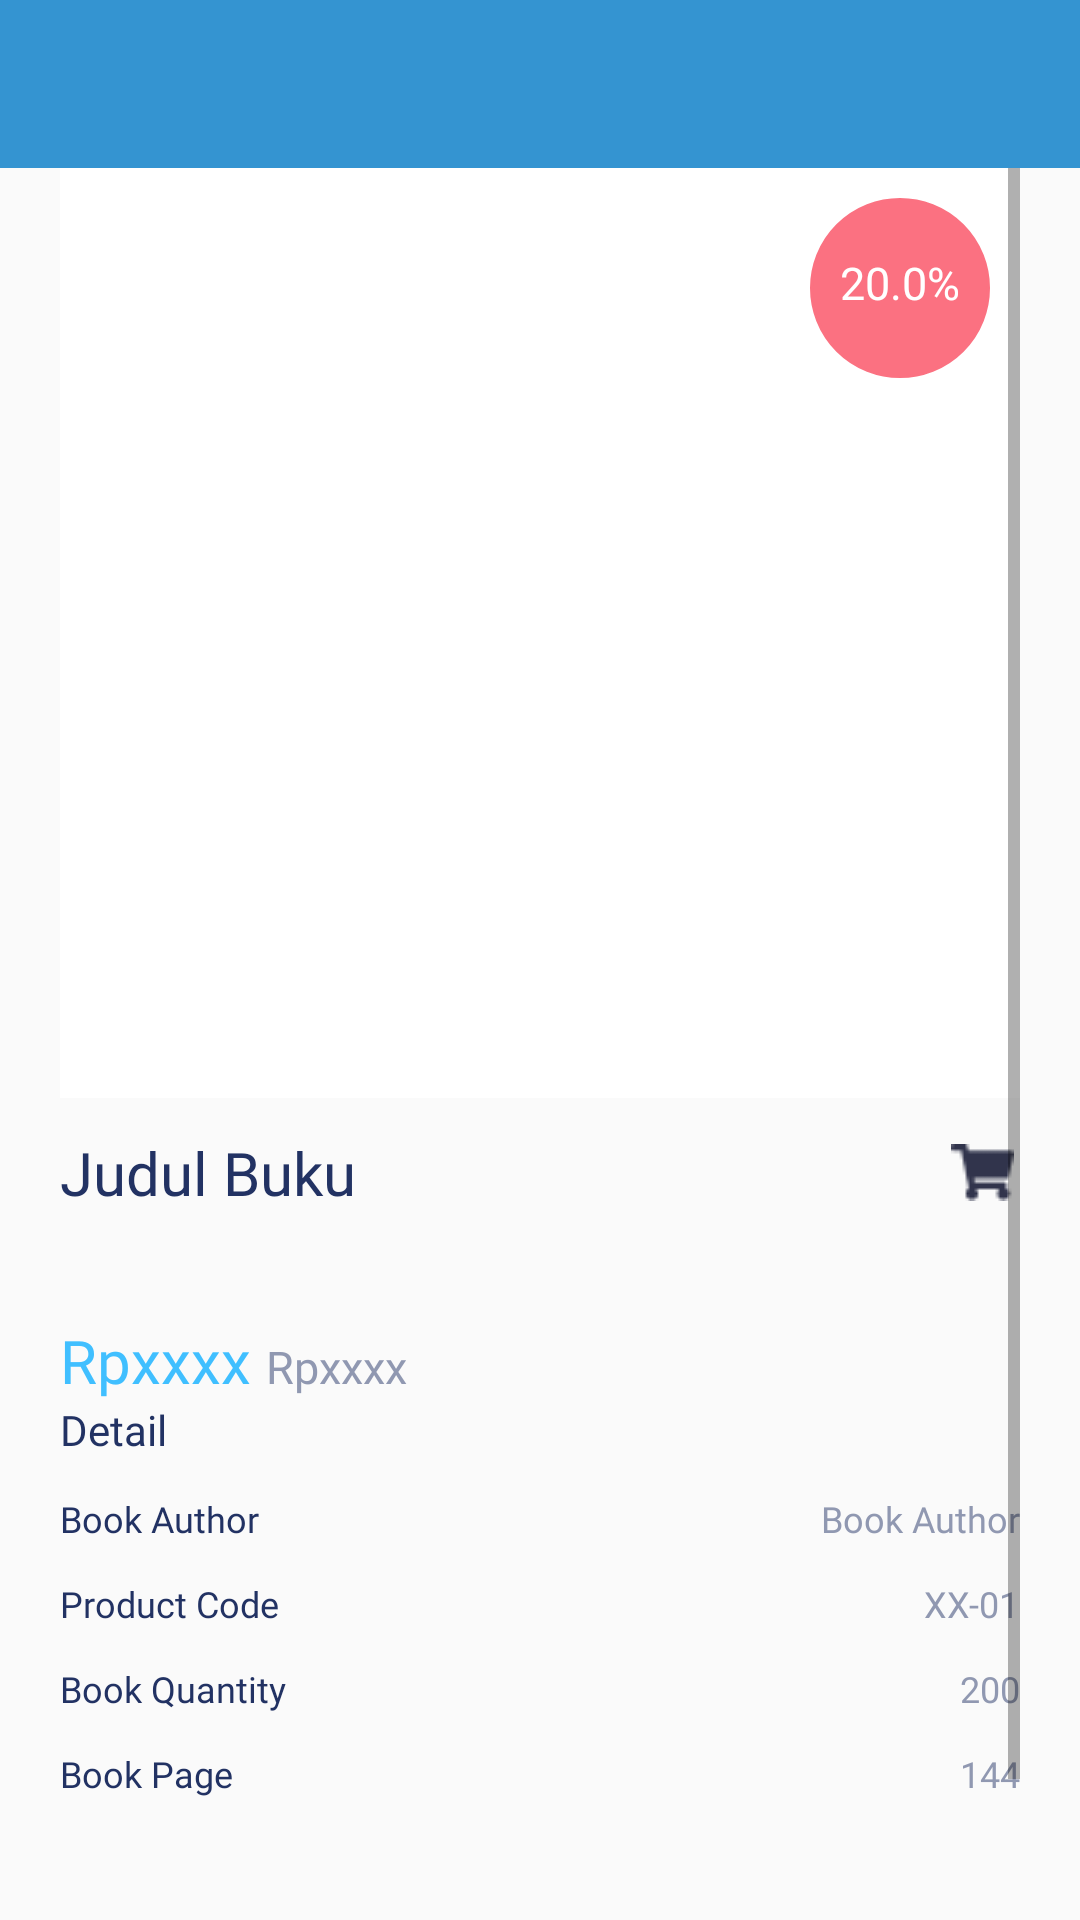

Point at icon controls on the screen. Image size 1080×1920, points as (x,y).
cart: (985,1172)
